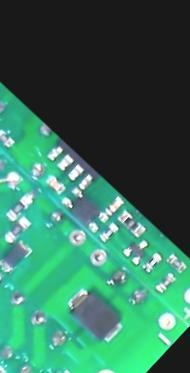chip-capacitor: (103, 194, 127, 219), (44, 172, 68, 196)
chip-resistor: (115, 208, 148, 240), (1, 218, 30, 247), (4, 195, 31, 223), (153, 270, 179, 296), (139, 249, 165, 275), (97, 220, 121, 245), (164, 252, 188, 275), (0, 127, 16, 150)
diode: (60, 279, 131, 349), (0, 237, 34, 277)
ic: (57, 183, 112, 236)
transistor: (119, 233, 155, 269)
